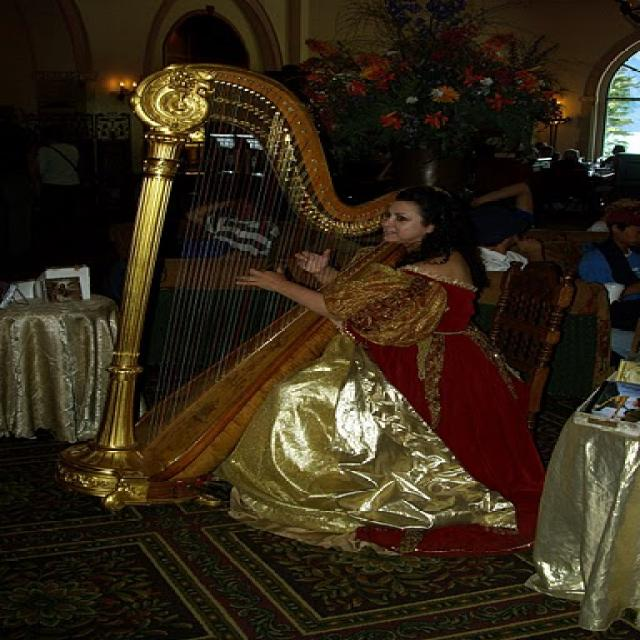harp: (49, 62, 433, 511)
